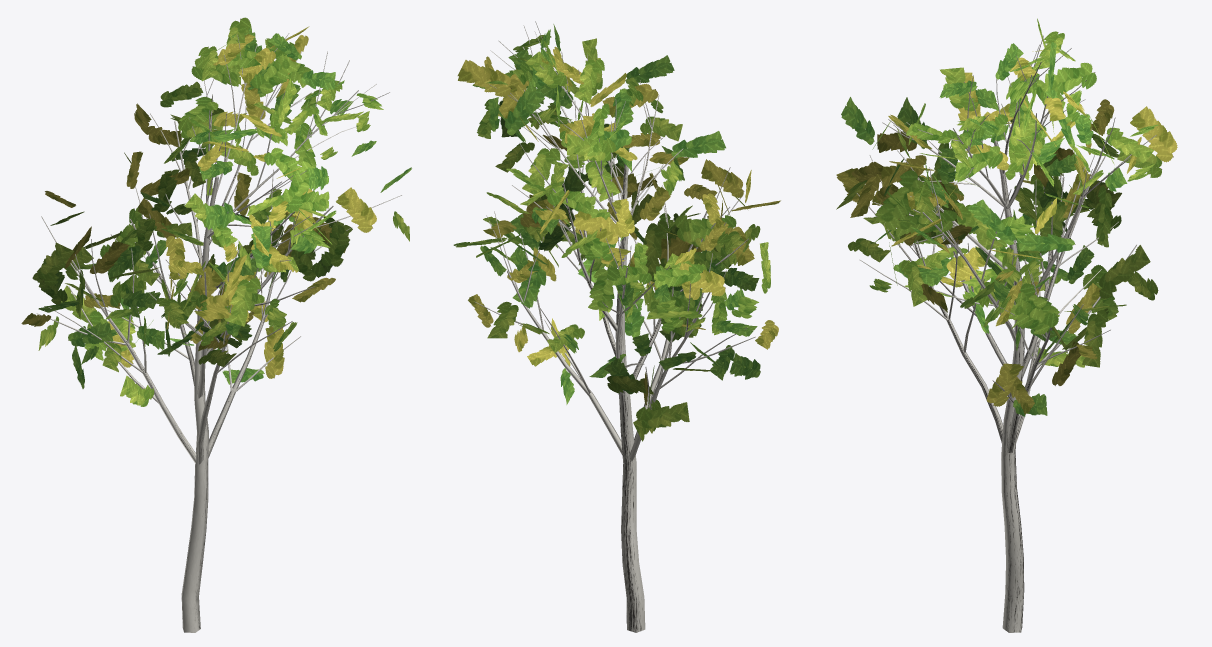
Rendered from hero_birch_a_lod1.obj.
3 views of the same model, side by side, from view 1: azimuth 30°, elevation 25°; view 2: azimuth 150°, elevation 25°; view 3: azimuth 270°, elevation 25° (orthographic). The views are drawn at different scales.
Visible parts, largest first — view 1: hero_birch_a_lod1; view 2: hero_birch_a_lod1; view 3: hero_birch_a_lod1.
Boxes of the visible parts, <box> form: hero_birch_a_lod1: <box>21,17,411,632</box>; hero_birch_a_lod1: <box>453,21,780,632</box>; hero_birch_a_lod1: <box>836,18,1177,632</box>.
Size of the model in its own units: 8.33 by 13.29 by 7.1.
Materials: 2 (2 with a texture image).
